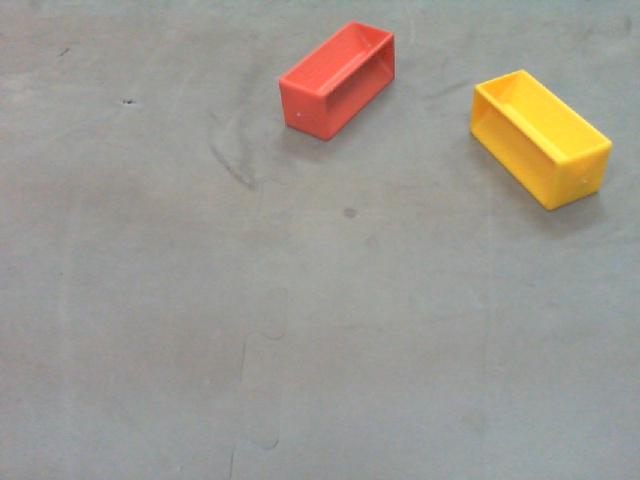RedSample: (275, 22, 397, 143)
YellowSample: (471, 72, 608, 207)
